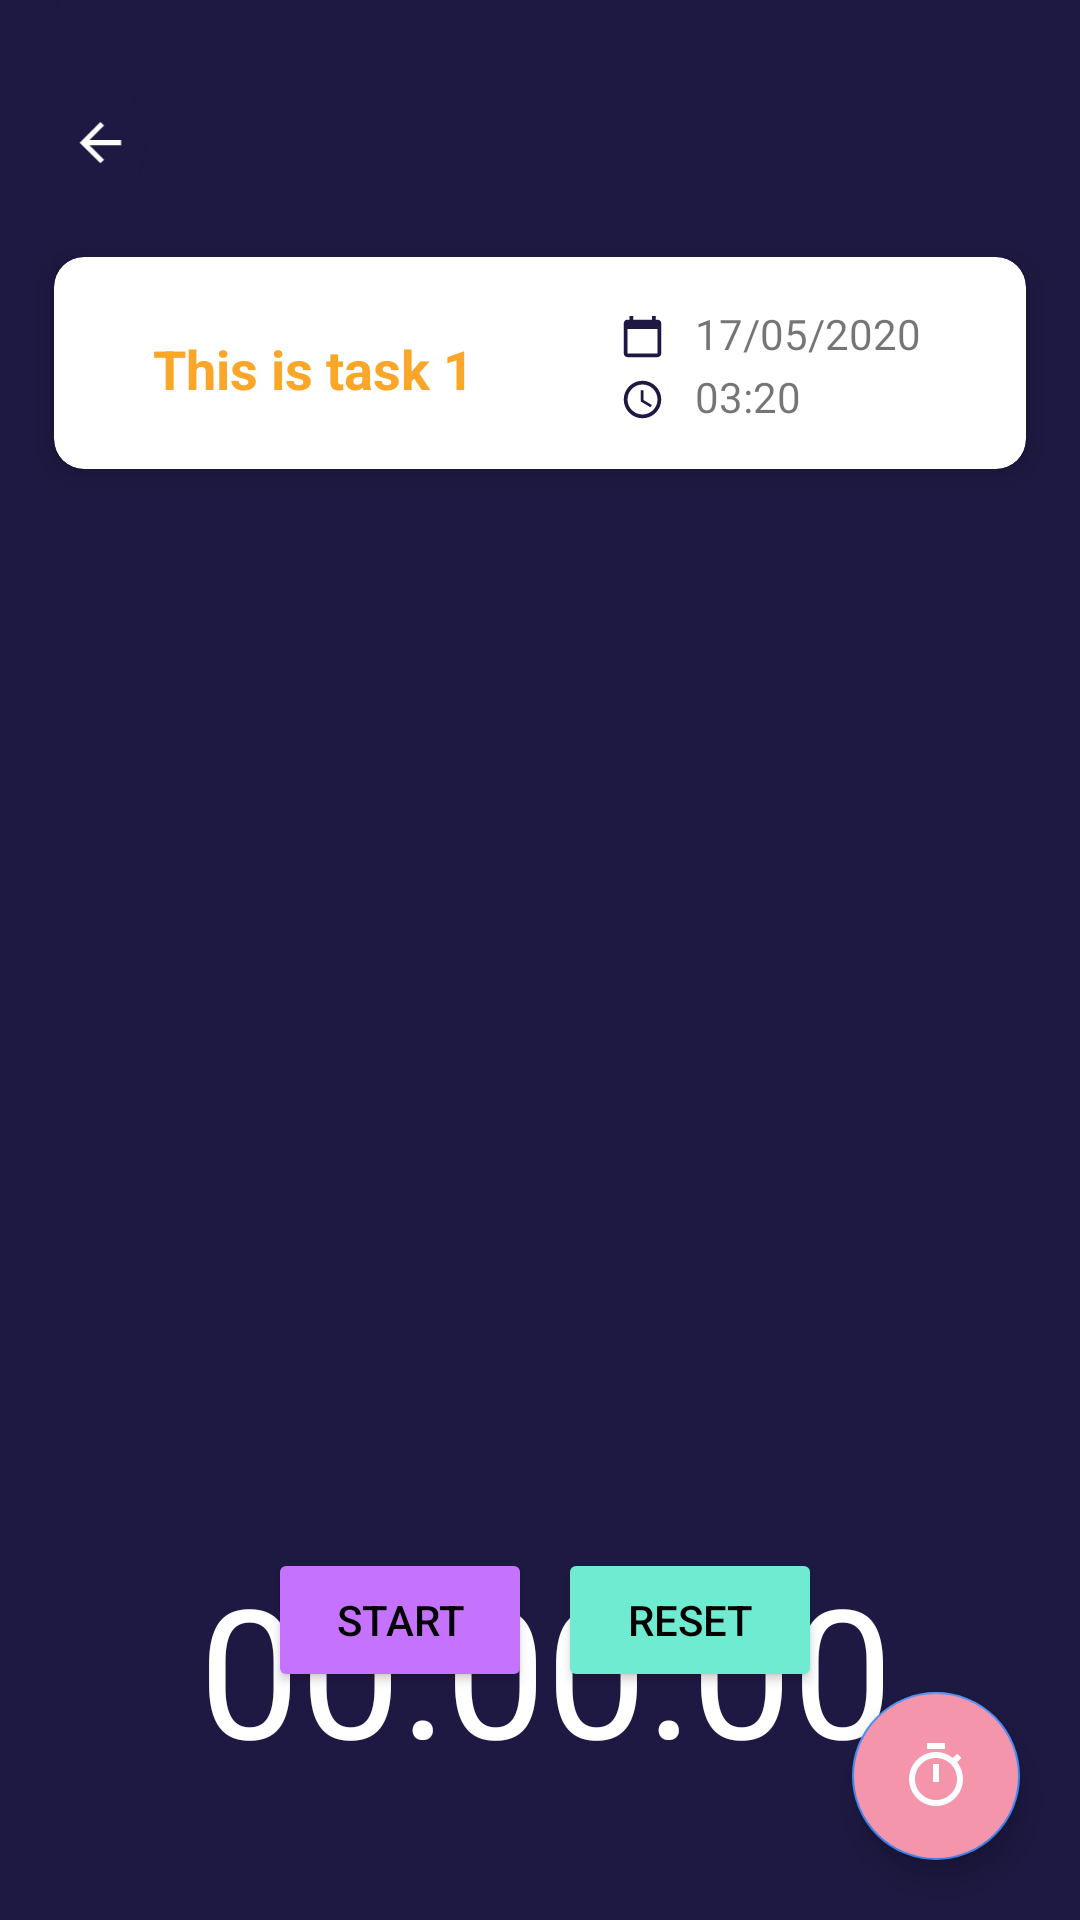

Screen size 1080*1920. Icon name, then its center in pixels as [x,y]:
calendar: [642,337]
time: [642,399]
timer: [936,1776]
